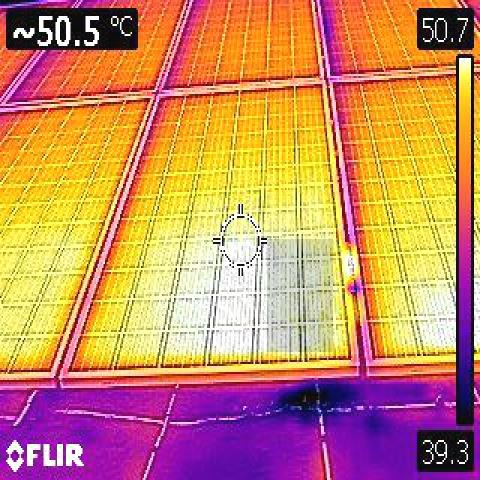fault: (267, 239, 333, 352)
